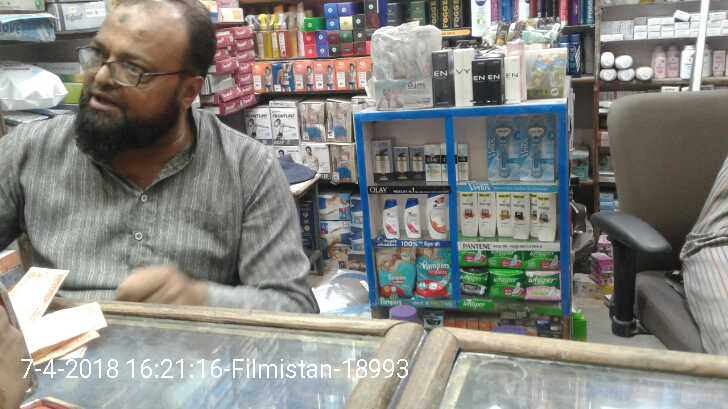venus: (520, 118, 554, 181), (487, 118, 519, 181)
